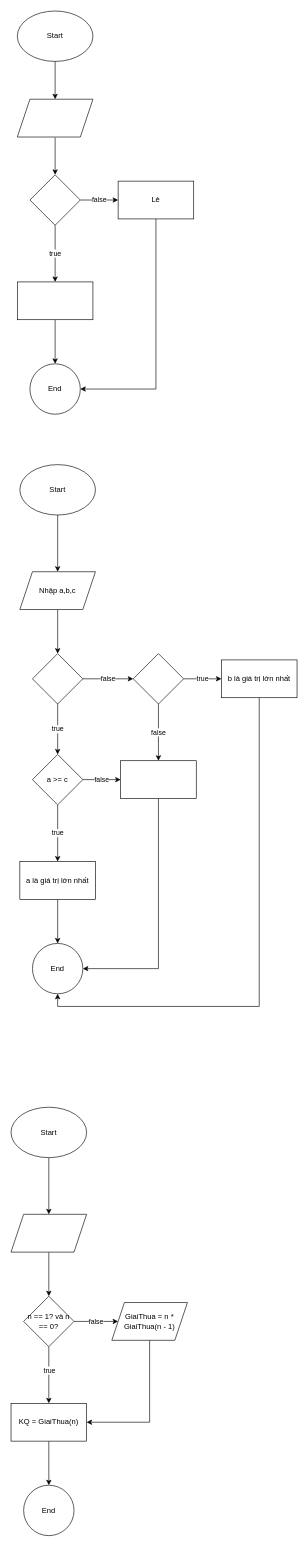
The diagram is 308 pixels wide and 1547 high, and some of its shapes have lost their labels. Here are the shapes that lost their labels. From the top down, the centre of each, then its label:
point (55, 118): Nhập số nguyên n
point (54, 199): n % 2 ==0 ?
point (55, 300): Chẵn
point (57, 678): a >= b
point (158, 678): b >= c
point (158, 779): c là giá trị lớn nhất
point (48, 1233): Nhập n function GiaiThua(n)
